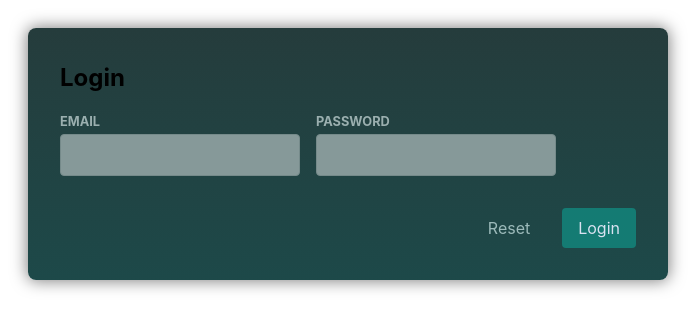
Test: LoginState › password validation › shows an error after leaving the field with fewer than 6 characters
Type "12345" into the password field labelled "Password" at (436, 155), box [316,134,556,176]
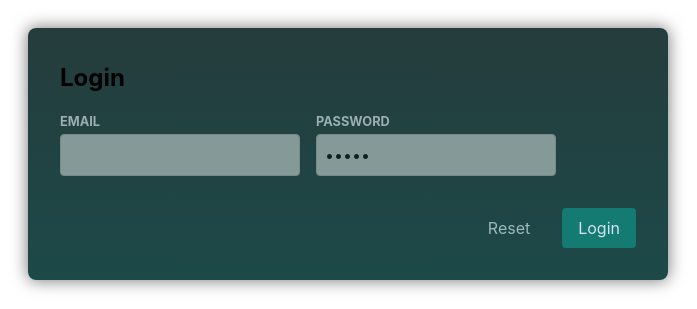
Leave the password field labelled "Password", box [316,134,556,176]
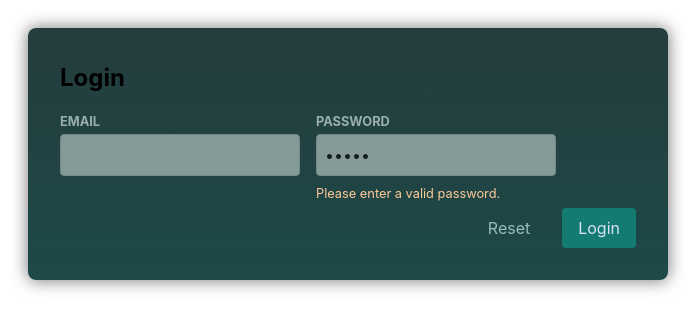
Expected: the text "Please enter a valid password." is shown, [316,186,500,201]
